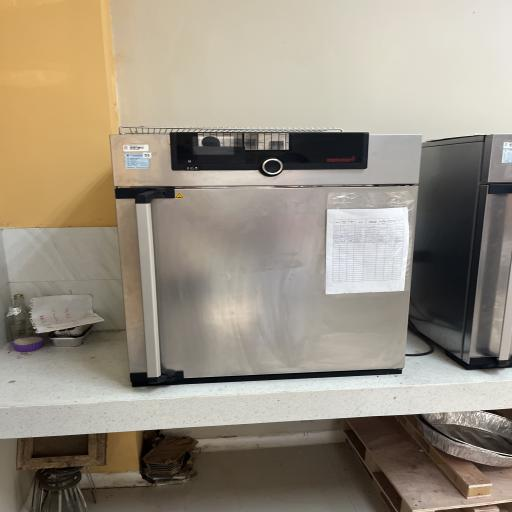Memmert_Unidad2: (100, 118, 427, 388)
